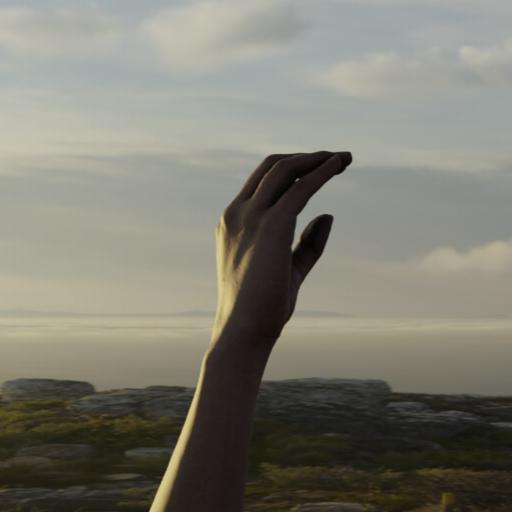C: (176, 112, 425, 338)
